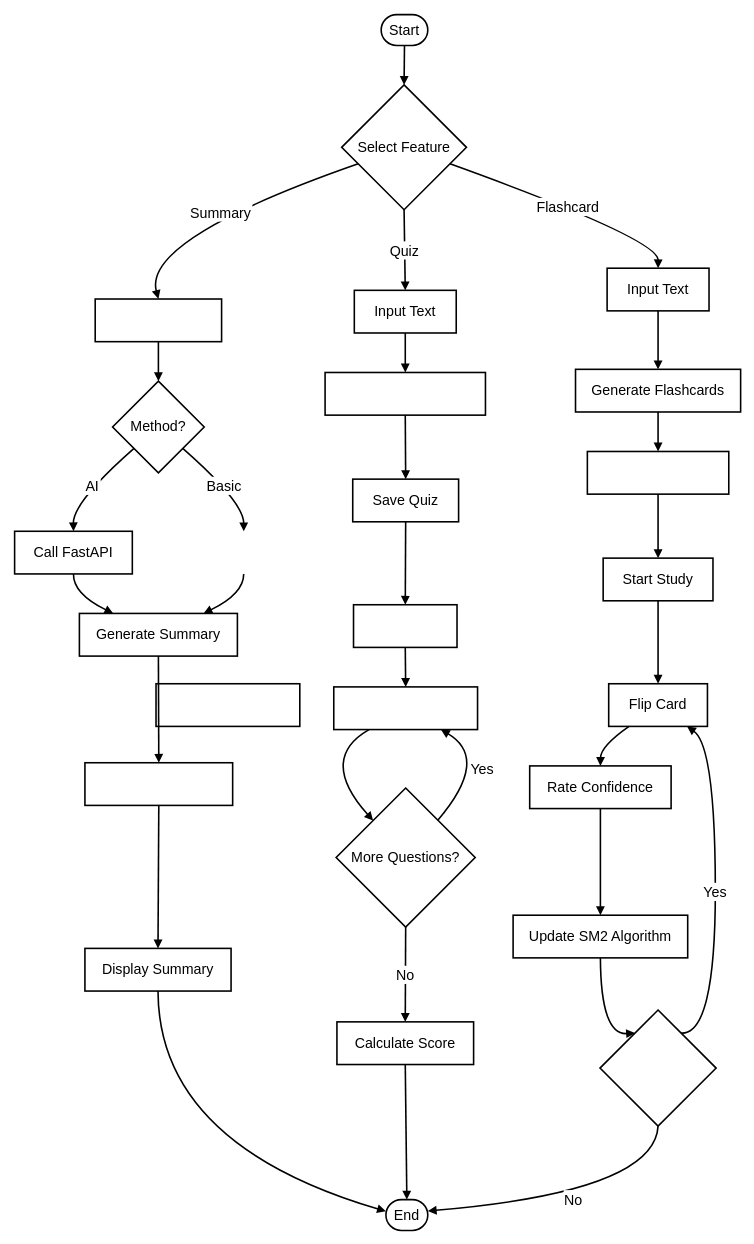
Image size: 754x1244. Some labels were removed from this diagram. Here are the shapes that lost their labels. From the top down, the centre of each, then its label:
At [158,320]: "Input Text/File".
At [405,393]: "Generate Questions".
At [657,472]: "Save Flashcards".
At [404,626]: "Start Quiz".
At [227,705]: "Local Processing".
At [405,708]: "Answer Question".
At [158,784]: "Save to Database".
At [658,1068]: "More Cards?".
